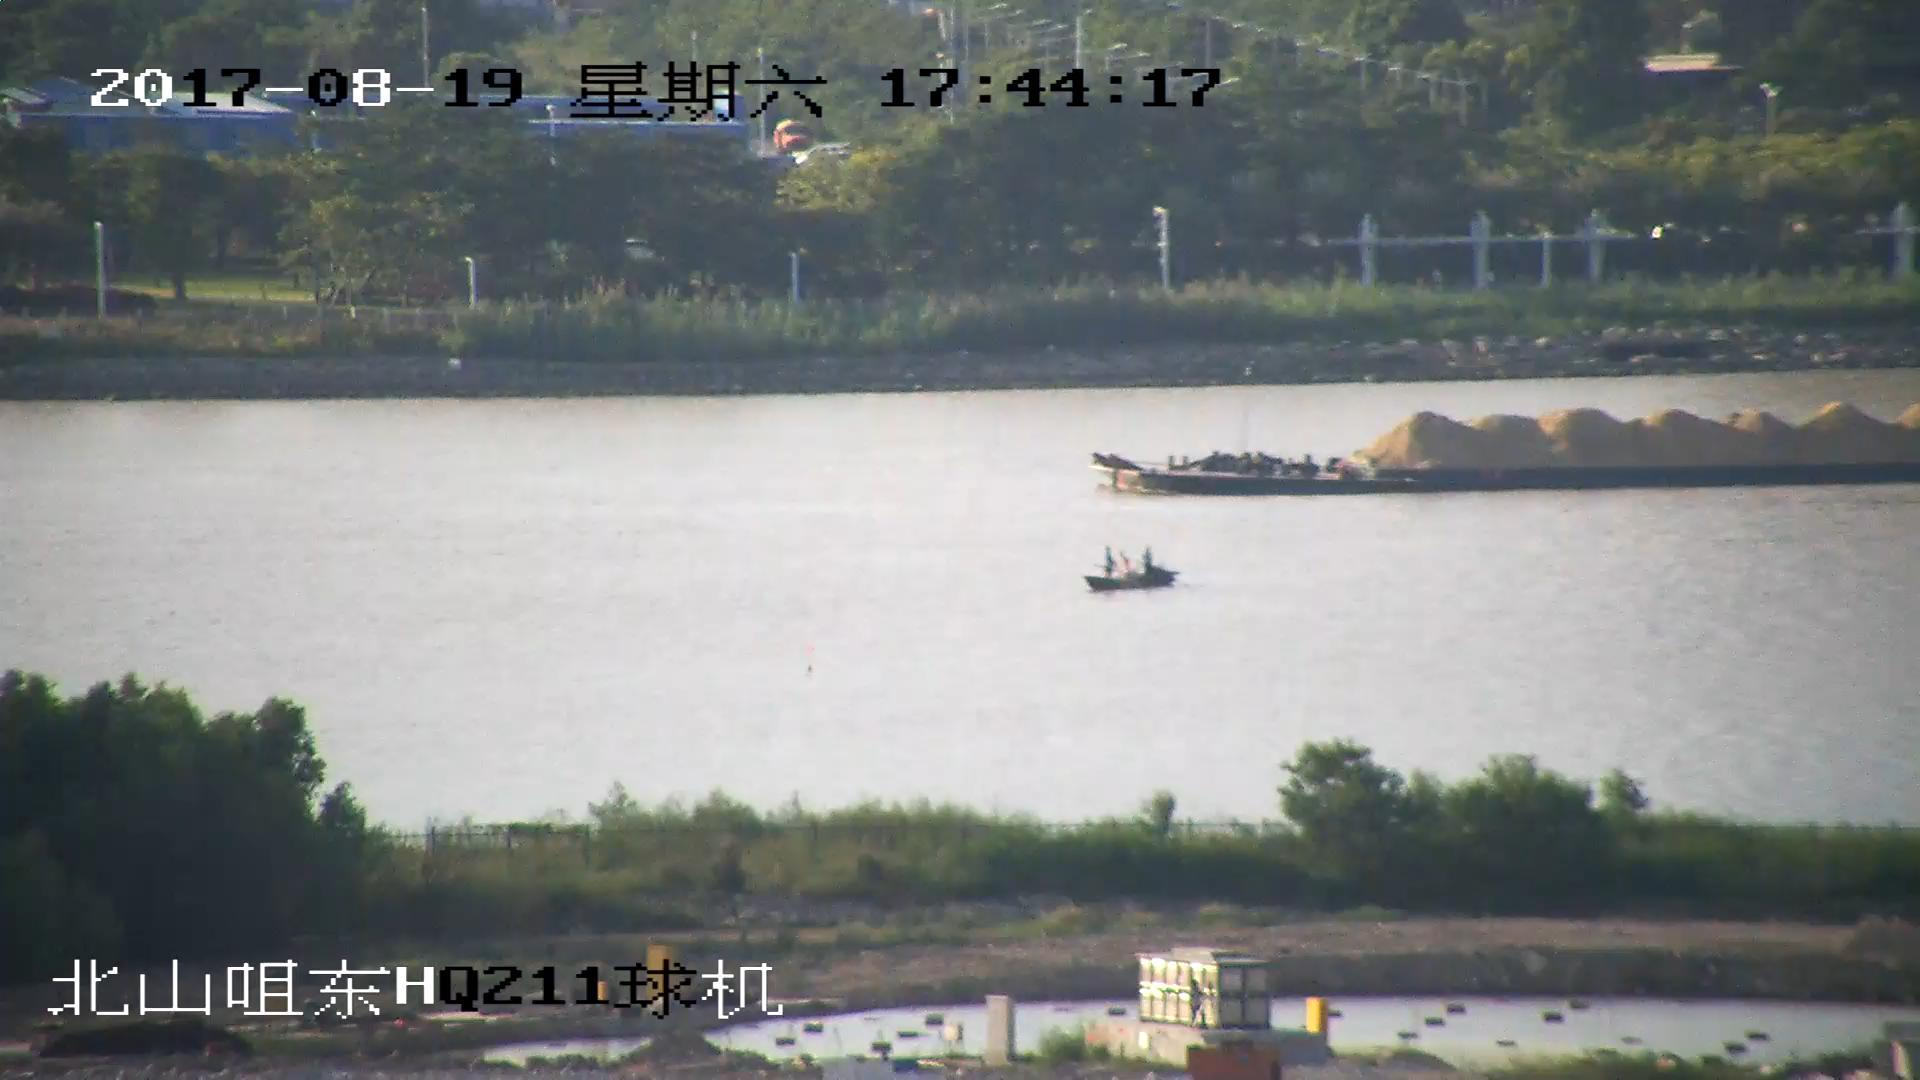Ship: (1085, 404, 1920, 502), (1083, 545, 1182, 595)
